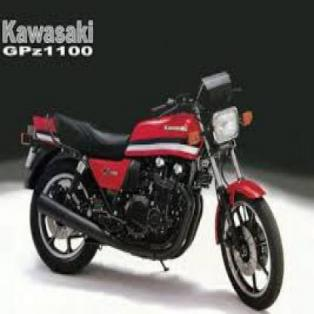Motocicleta: (15, 65, 283, 314)
